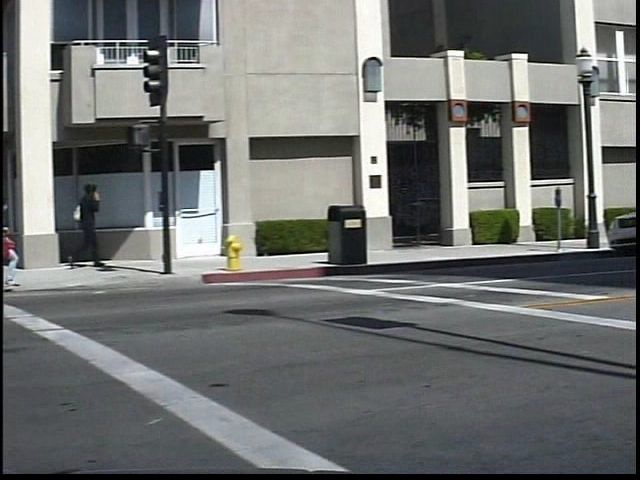person: (76, 175, 123, 269), (0, 185, 33, 289)
